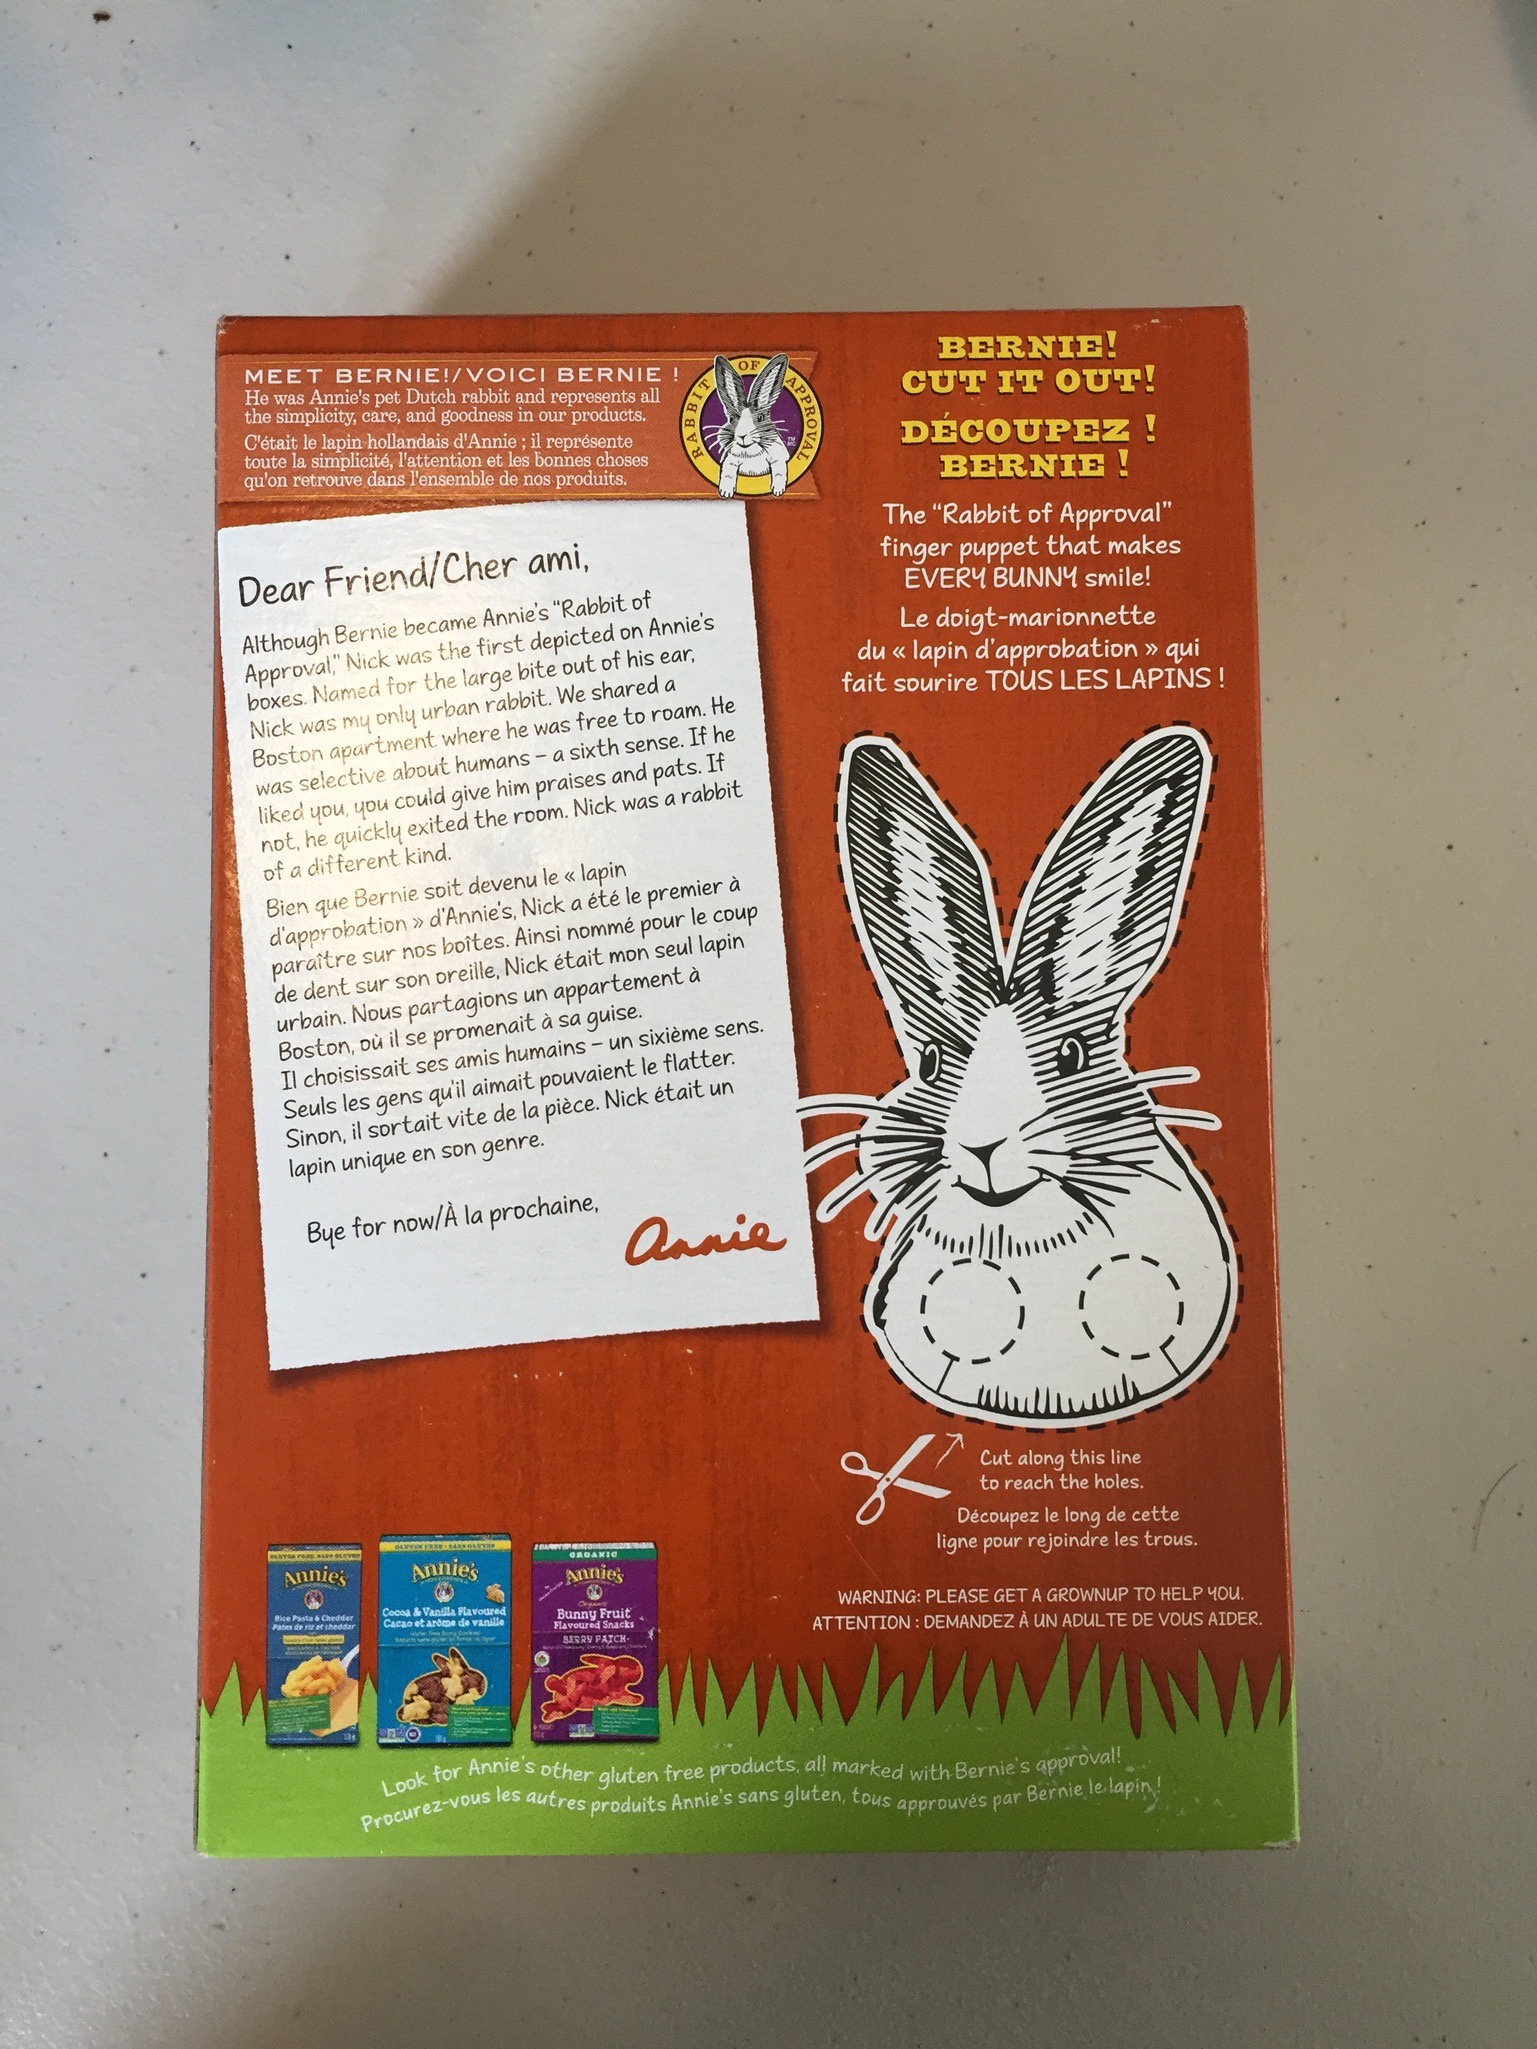annies_snickerdoodle_cinnamon_sugar: (224, 310, 1271, 1834)
